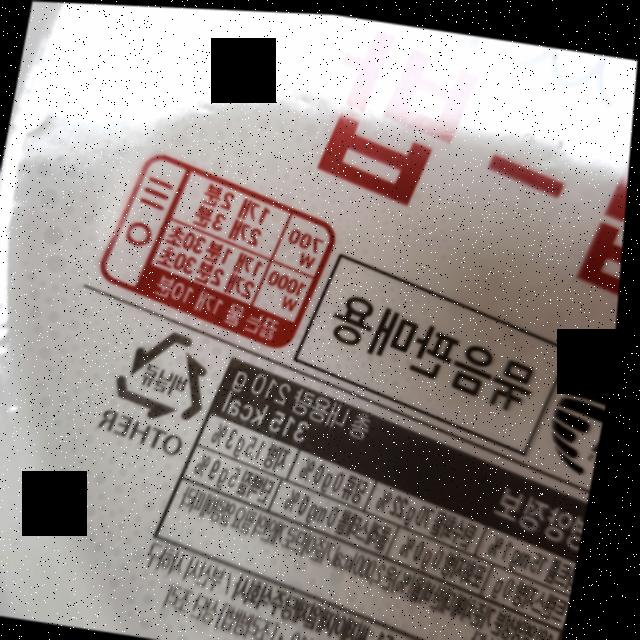Vinyl: (111, 321, 219, 426)
